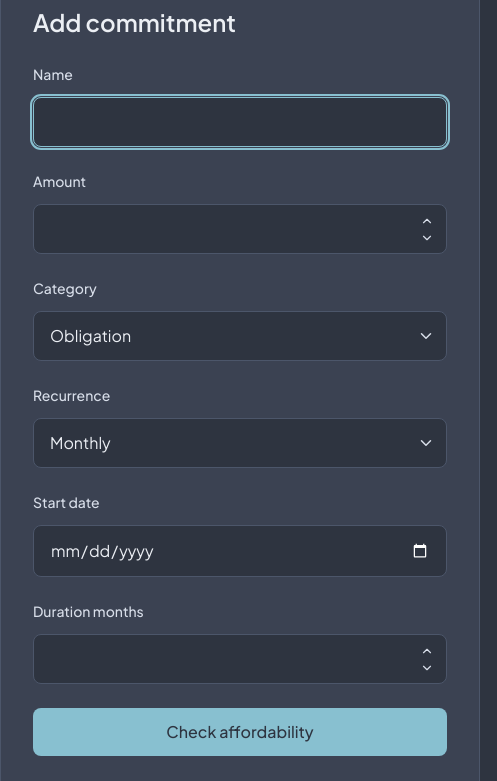
Test: CommitmentForm › warns when the commitment is over budget and allows proceeding
Type "Car Loan" into the field labelled "Name" at (240, 122), box [33, 97, 447, 147]
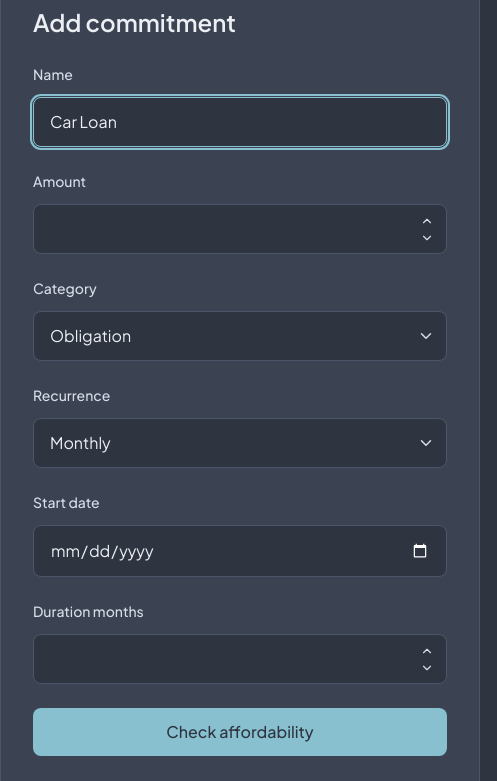
Type "2500" into the field labelled "Amount" at (240, 229), box [33, 204, 447, 254]
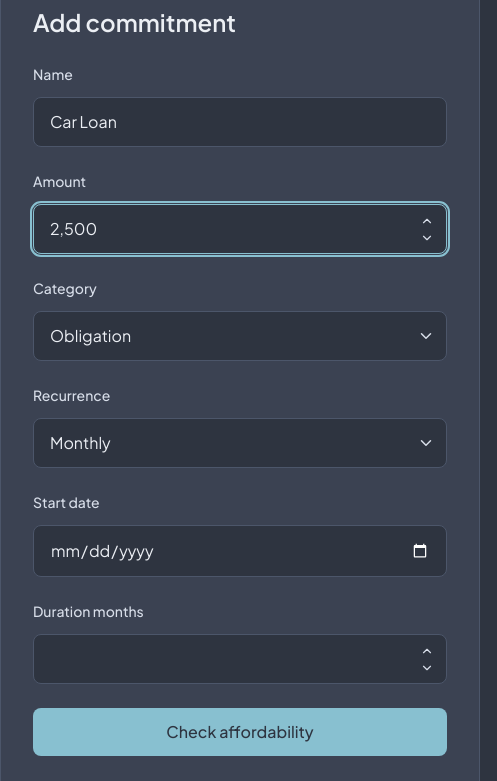
Type "2026-07-17" into the date field labelled "Start date" at (240, 551), box [33, 525, 447, 577]
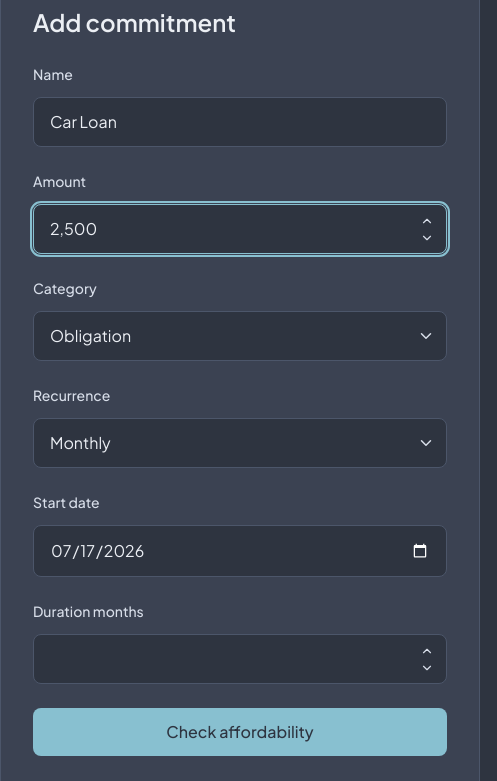
Click the button "Check affordability" at (240, 732), box [33, 708, 447, 756]
(page scrolled)
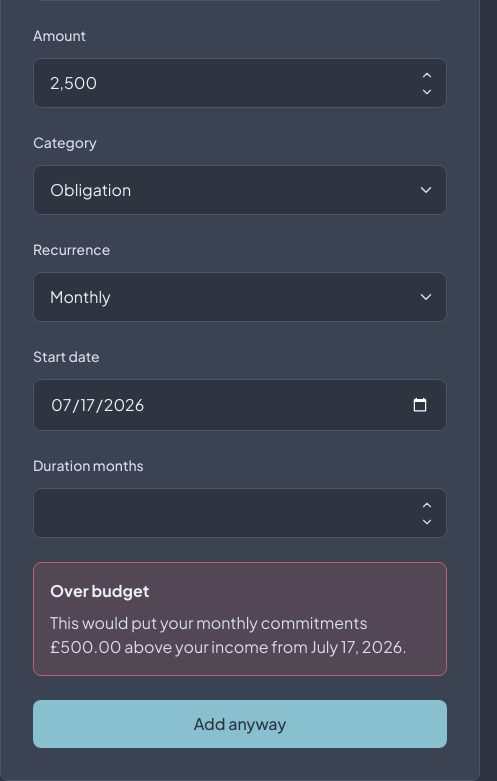
Result: the heading "Over budget" is shown at [50, 580, 149, 601]
Result: the button "Add anyway" is shown at [33, 700, 447, 748]
